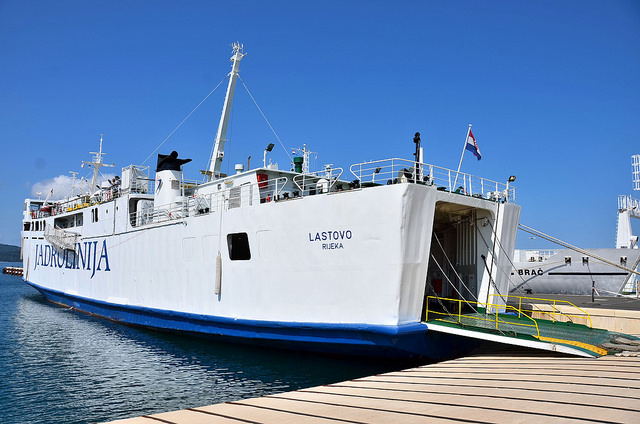PCC: (22, 121, 536, 349)
